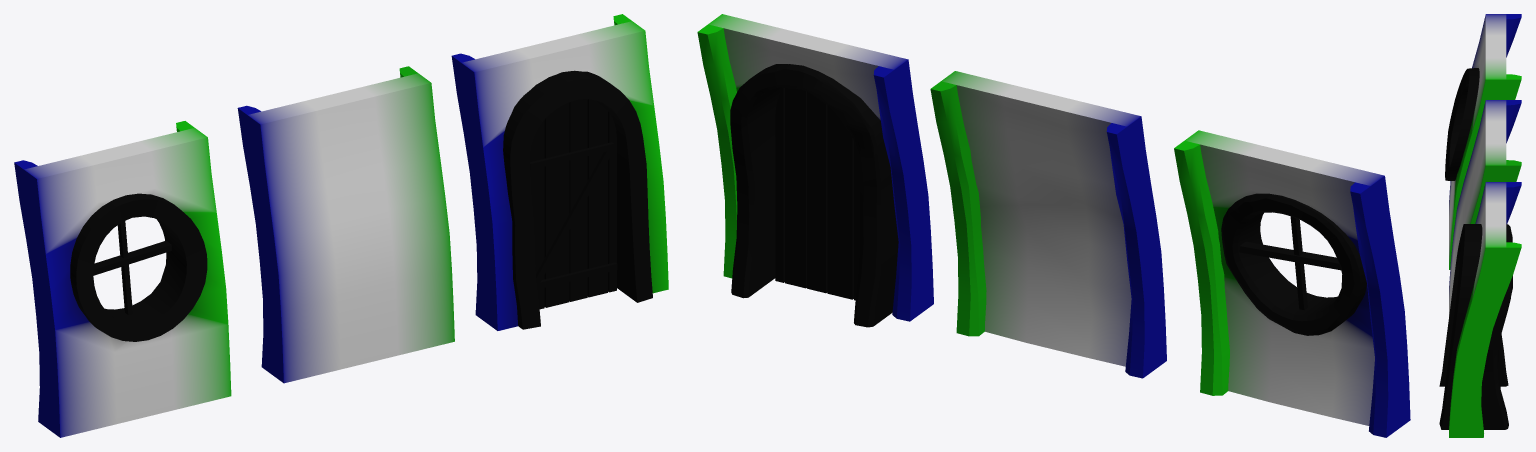
The model's file is MBSSecondPack_InclinedWalls.fbx.
3 renders of one model, left to right at view 1: azimuth 30°, elevation 25°; view 2: azimuth 150°, elevation 25°; view 3: azimuth 270°, elevation 25°, orthographic. The views are drawn at different scales.
Visible parts, largest first — view 1: Wall_solid_Combined.001, Wall_Door_Combined.001, Wall_Window_Combined.001; view 2: Wall_Door_Combined.001, Wall_solid_Combined.001, Wall_Window_Combined.001; view 3: Wall_Door_Combined.001, Wall_Window_Combined.001, Wall_solid_Combined.001.
Boxes of the visible parts, x1,y1,x2,y2 form: Wall_solid_Combined.001: [237, 66, 454, 383]; Wall_Door_Combined.001: [451, 14, 668, 330]; Wall_Window_Combined.001: [14, 121, 231, 437]; Wall_Door_Combined.001: [697, 14, 933, 327]; Wall_solid_Combined.001: [930, 71, 1166, 378]; Wall_Window_Combined.001: [1174, 130, 1410, 437]; Wall_Door_Combined.001: [1439, 182, 1521, 437]; Wall_Window_Combined.001: [1445, 14, 1521, 269]; Wall_solid_Combined.001: [1449, 100, 1521, 316].
Bounding box in the file's own units: 711 × 270 × 106.
